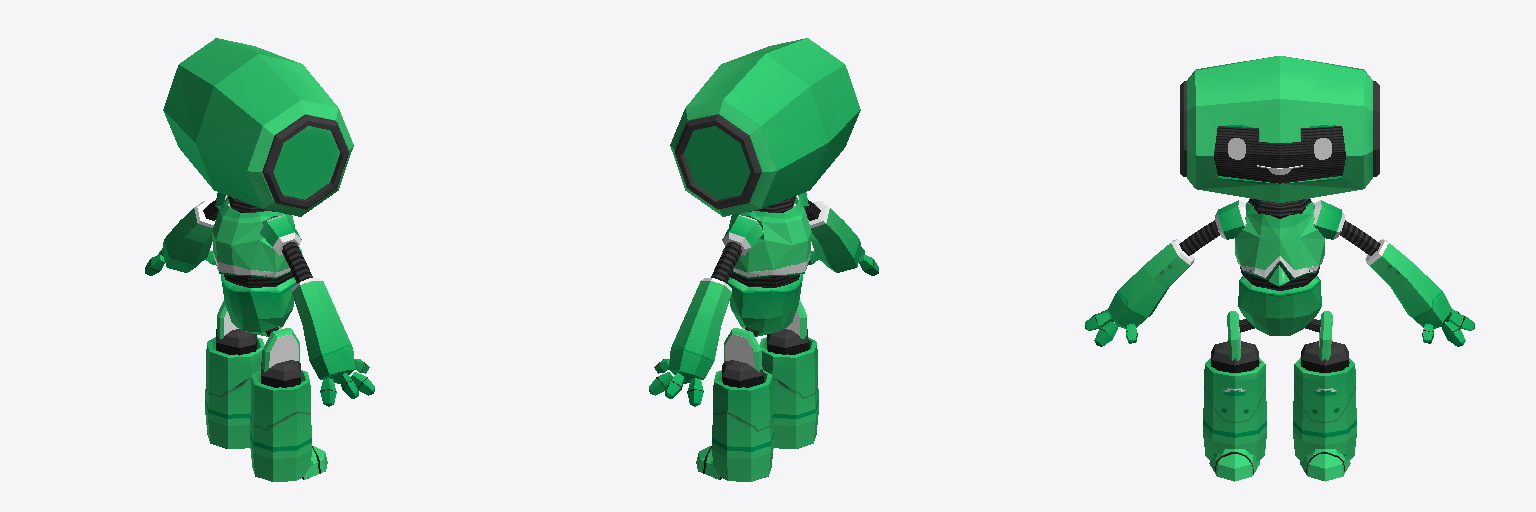
3 views of the same model, side by side, from view 1: azimuth 30°, elevation 25°; view 2: azimuth 150°, elevation 25°; view 3: azimuth 270°, elevation 25° (orthographic).
Parts seen in each view (by area): view 1: mesh_101; view 2: mesh_101; view 3: mesh_101.
Part boxes in pixels (bbox=[...]): mesh_101: bbox=[145, 38, 374, 481]; mesh_101: bbox=[649, 38, 878, 481]; mesh_101: bbox=[1085, 56, 1474, 481].
Size of the model in its own units: 33.37 by 106 by 93.4.
Materials: 1 (1 with a texture image).